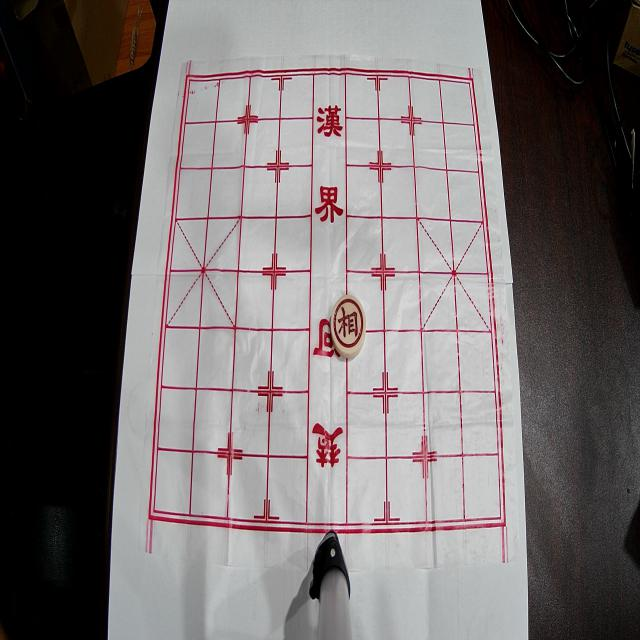red-elephant: (331, 295, 366, 358)
